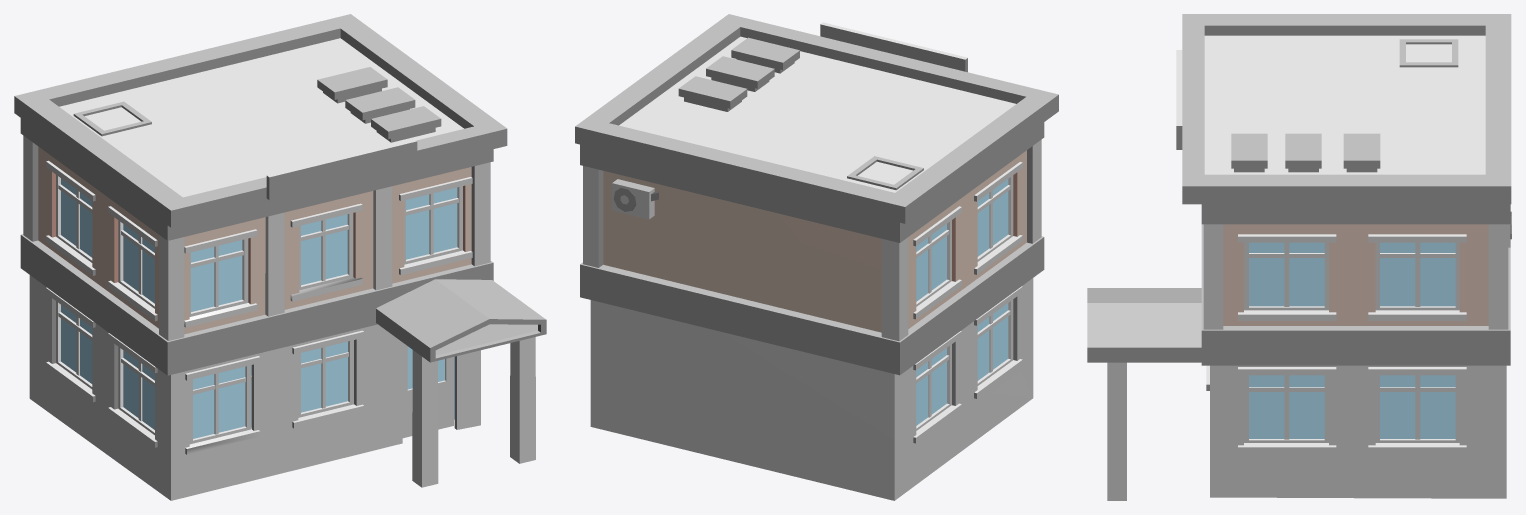
Rendered from bank_001.fbx.
3 views of the same model, side by side, from view 1: azimuth 30°, elevation 25°; view 2: azimuth 150°, elevation 25°; view 3: azimuth 270°, elevation 25° (orthographic). The views are drawn at different scales.
Parts seen in each view (by area): view 1: bank_001; view 2: bank_001; view 3: bank_001.
Boxes of the visible parts, bbox=[...] form: bank_001: bbox=[14, 14, 546, 500]; bank_001: bbox=[575, 14, 1058, 500]; bank_001: bbox=[1087, 14, 1511, 500].
Bounding box in the file's own units: 719 × 646 × 747.
